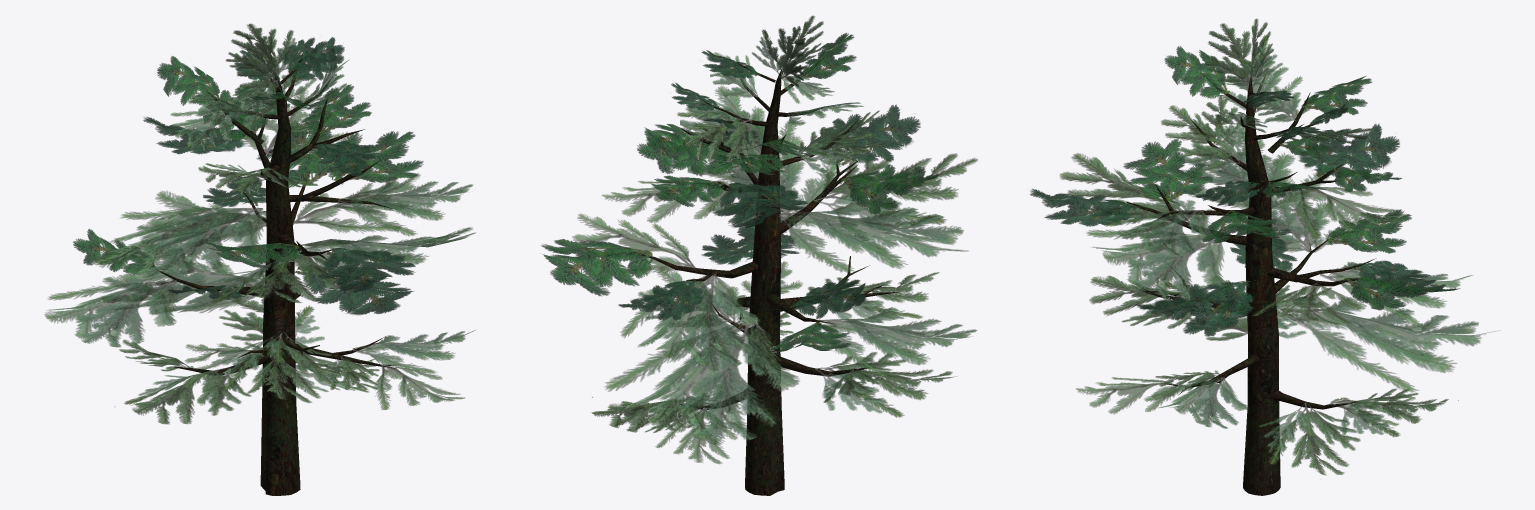
The model's file is tree.glb.
3 renders of one model, left to right at view 1: azimuth 30°, elevation 25°; view 2: azimuth 150°, elevation 25°; view 3: azimuth 270°, elevation 25°, orthographic. The views are drawn at different scales.
Visible parts, largest first — view 1: pine; view 2: pine; view 3: pine.
Part boxes in pixels (box(x1,y1,x2,y2)): pine: box(44, 23, 475, 495); pine: box(541, 15, 977, 495); pine: box(1030, 18, 1500, 495).
Size of the model in its own units: 3.31 by 3.7 by 3.64.
1 material, 1 textured.
